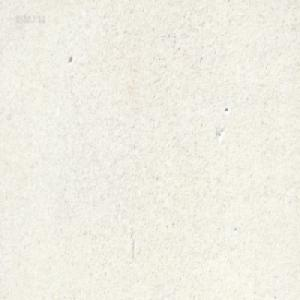Wrench: (135, 0, 141, 4)
